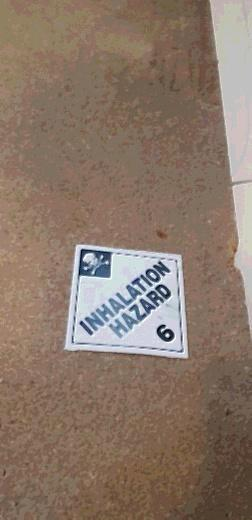poison: (66, 244, 187, 351)
